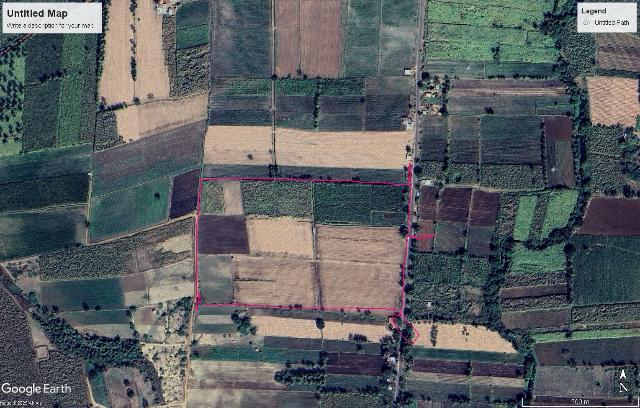DryFarms: (275, 128, 412, 169), (117, 91, 210, 143), (232, 255, 321, 309), (314, 261, 401, 313), (97, 0, 135, 110), (316, 223, 408, 265), (134, 1, 171, 104), (300, 0, 343, 79), (413, 322, 518, 354), (246, 216, 319, 261), (246, 217, 315, 261), (585, 76, 640, 129), (203, 126, 277, 165), (273, 0, 301, 79), (251, 316, 322, 340), (322, 320, 394, 343), (222, 179, 243, 216), (158, 233, 194, 253)
EmptyFarms: (186, 362, 276, 408), (573, 197, 640, 236), (197, 214, 254, 256), (148, 259, 195, 306), (169, 169, 200, 220), (437, 186, 472, 225), (328, 354, 386, 375), (467, 190, 500, 226), (413, 359, 472, 376), (471, 362, 527, 379), (544, 114, 573, 142), (417, 185, 439, 221), (417, 221, 435, 254), (122, 273, 149, 294)
Farms: (92, 120, 206, 197), (89, 176, 172, 244), (425, 22, 560, 63), (0, 201, 89, 263), (571, 236, 640, 308), (23, 34, 63, 152), (59, 32, 100, 145), (213, 0, 271, 78), (38, 278, 132, 326), (310, 180, 410, 225), (38, 237, 140, 279), (203, 164, 407, 183), (0, 144, 94, 185), (0, 171, 91, 212), (427, 0, 557, 28), (419, 160, 543, 189), (534, 337, 639, 371), (1, 30, 28, 158), (414, 254, 486, 301), (377, 0, 420, 78), (207, 77, 274, 127), (189, 343, 323, 367), (479, 114, 543, 164), (275, 96, 367, 130), (343, 0, 382, 78), (241, 180, 314, 217), (533, 366, 615, 398), (591, 126, 627, 197), (285, 374, 391, 398), (538, 191, 578, 242), (500, 306, 572, 332), (364, 95, 410, 130), (408, 379, 472, 404), (448, 96, 535, 114), (241, 389, 321, 408), (547, 140, 577, 189), (420, 114, 450, 162), (484, 60, 559, 79), (450, 114, 479, 163), (273, 81, 365, 96), (513, 194, 539, 243), (428, 59, 486, 80), (95, 109, 121, 152), (195, 178, 224, 216), (435, 222, 469, 254), (175, 0, 212, 29), (176, 23, 212, 51), (366, 77, 413, 98), (466, 227, 494, 259)
